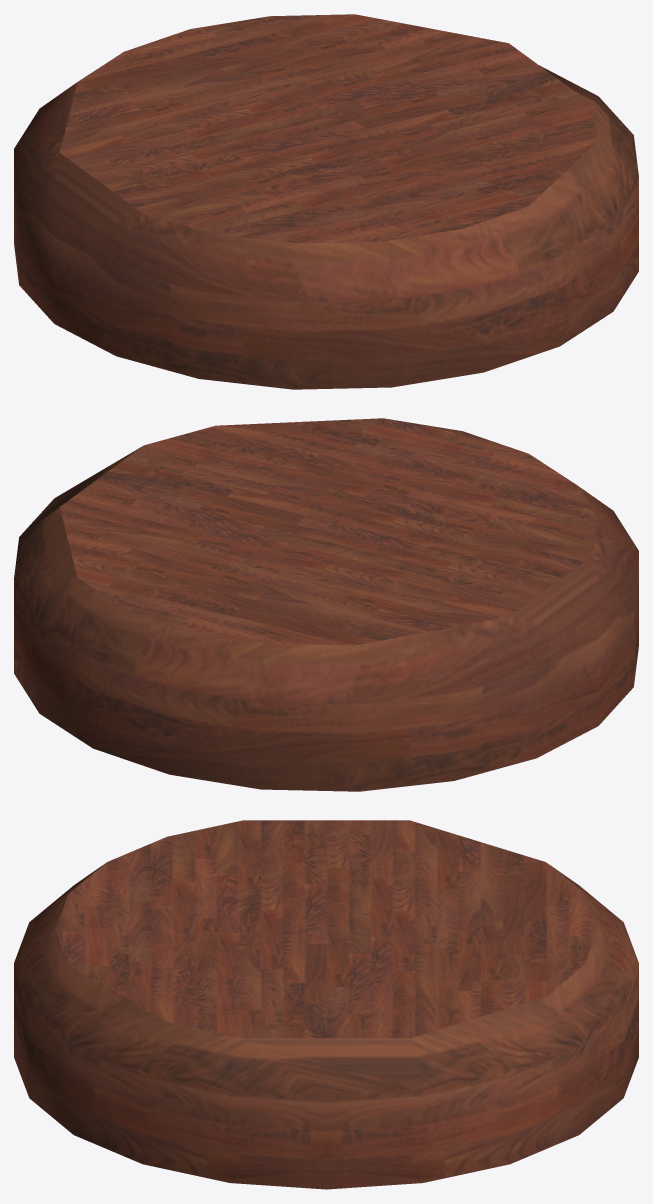
Rendered from Paper Weight_lod1.fbx.
3 renders of one model, top to bottom at view 1: azimuth 30°, elevation 25°; view 2: azimuth 150°, elevation 25°; view 3: azimuth 270°, elevation 25°, orthographic.
Visible parts, largest first — view 1: Paper_Weight; view 2: Paper_Weight; view 3: Paper_Weight.
Part boxes in pixels (<box>): Paper_Weight: <box>14,14,638,389</box>; Paper_Weight: <box>14,418,638,791</box>; Paper_Weight: <box>14,820,638,1189</box>.
Bounding box in the file's own units: 3 × 0.678 × 3.
